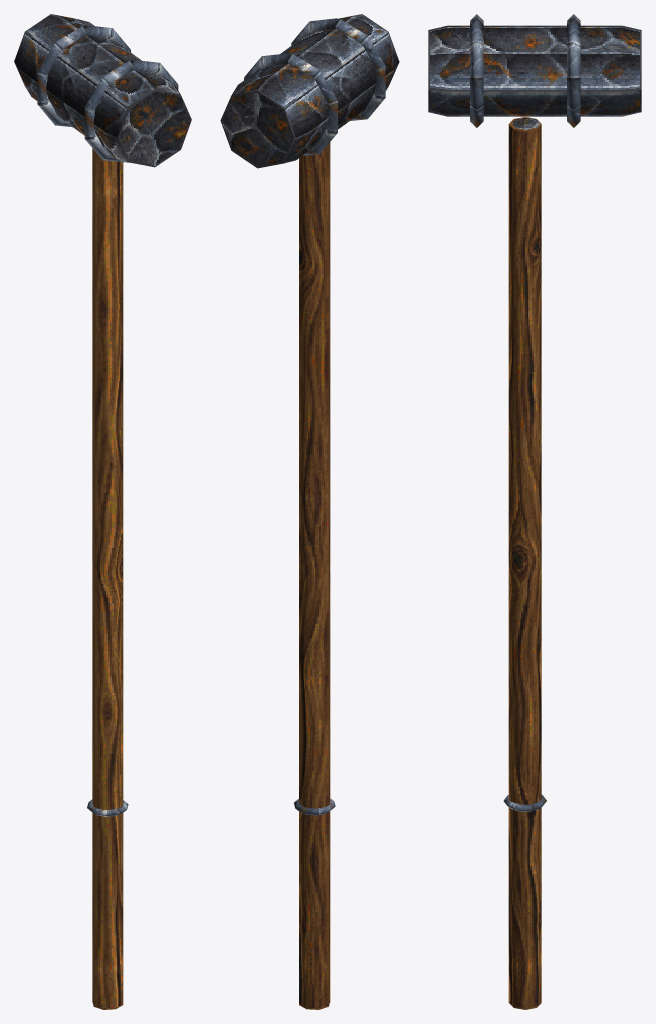
Rendered from warmaul.glb.
3 renders of one model, left to right at view 1: azimuth 30°, elevation 25°; view 2: azimuth 150°, elevation 25°; view 3: azimuth 270°, elevation 25°, orthographic. The views are drawn at different scales.
Visible parts, largest first — view 1: warmaul; view 2: warmaul; view 3: warmaul.
Part boxes in pixels (box(x1,y1,x2,y2)): warmaul: box(14, 14, 191, 1009); warmaul: box(220, 14, 399, 1009); warmaul: box(428, 14, 641, 1009).
Size of the model in its own units: 0.1141 by 1.12 by 0.22.
1 material, 1 textured.
